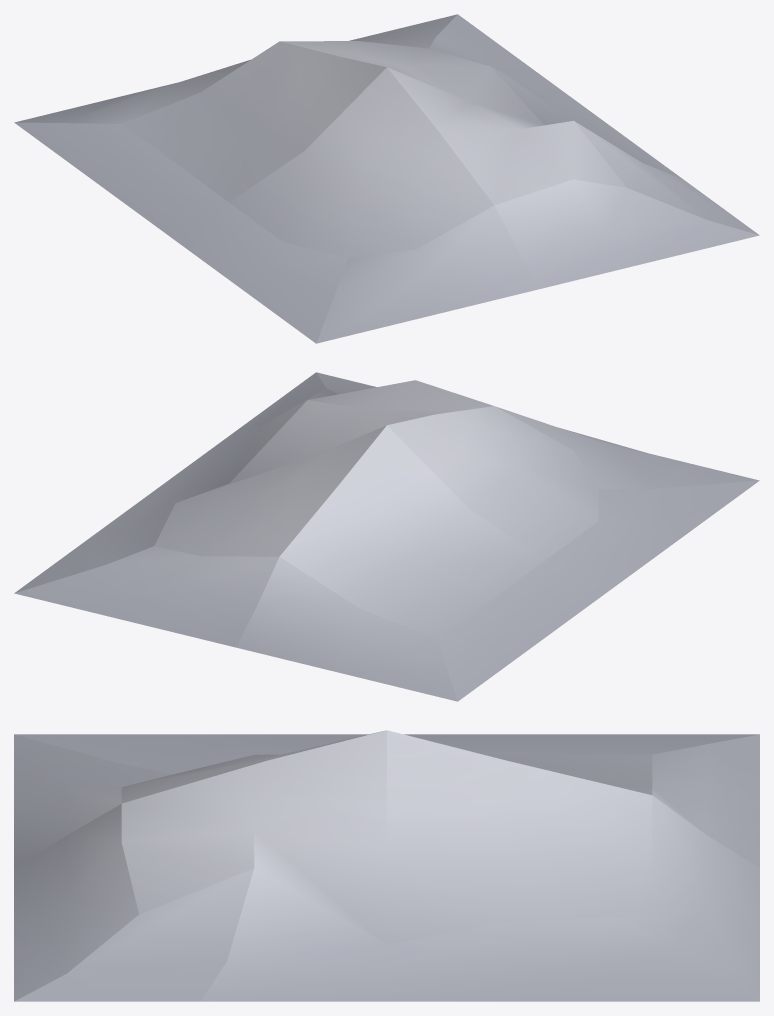
File: Hill_1.fbx
The picture shows the model from 3 angles, top to bottom: view 1: azimuth 30°, elevation 25°; view 2: azimuth 150°, elevation 25°; view 3: azimuth 270°, elevation 25°; orthographic projection. The views are drawn at different scales.
Parts seen in each view (by area): view 1: Hill; view 2: Hill; view 3: Hill.
Part boxes in pixels (left/top/right/bottom): Hill: left=14, top=14, right=759, bottom=343; Hill: left=14, top=372, right=759, bottom=701; Hill: left=14, top=730, right=759, bottom=1001.
Size of the model in its own units: 15.22 by 3.66 by 17.95.
Materials: 1 (1 with a texture image).
